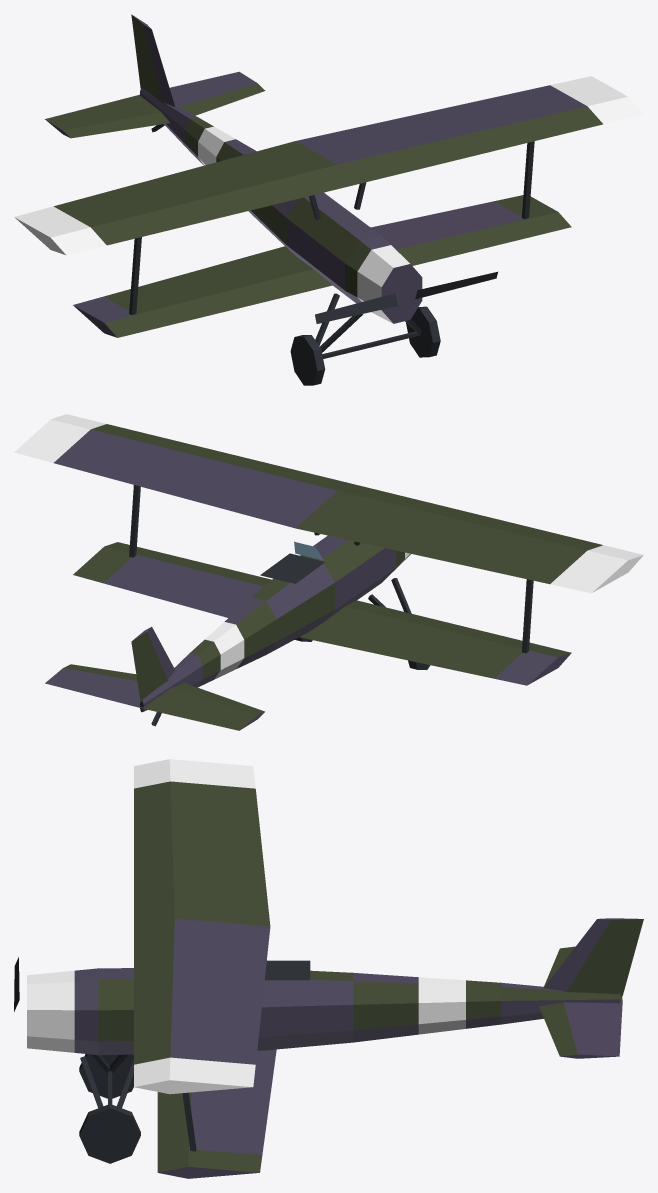
The model's file is fokker_d7_lod.glb.
The picture shows the model from 3 angles, top to bottom: view 1: azimuth 30°, elevation 25°; view 2: azimuth 150°, elevation 25°; view 3: azimuth 270°, elevation 25°; orthographic projection. The views are drawn at different scales.
Visible parts, largest first — view 1: body, prop; view 2: body; view 3: body.
Part boxes in pixels (x1,y1,x2,y2): body: [14, 14, 643, 385]; prop: [315, 271, 497, 323]; body: [14, 414, 643, 730]; body: [27, 759, 643, 1178].
Size of the model in its own units: 8.9 by 2.73 by 7.38.
